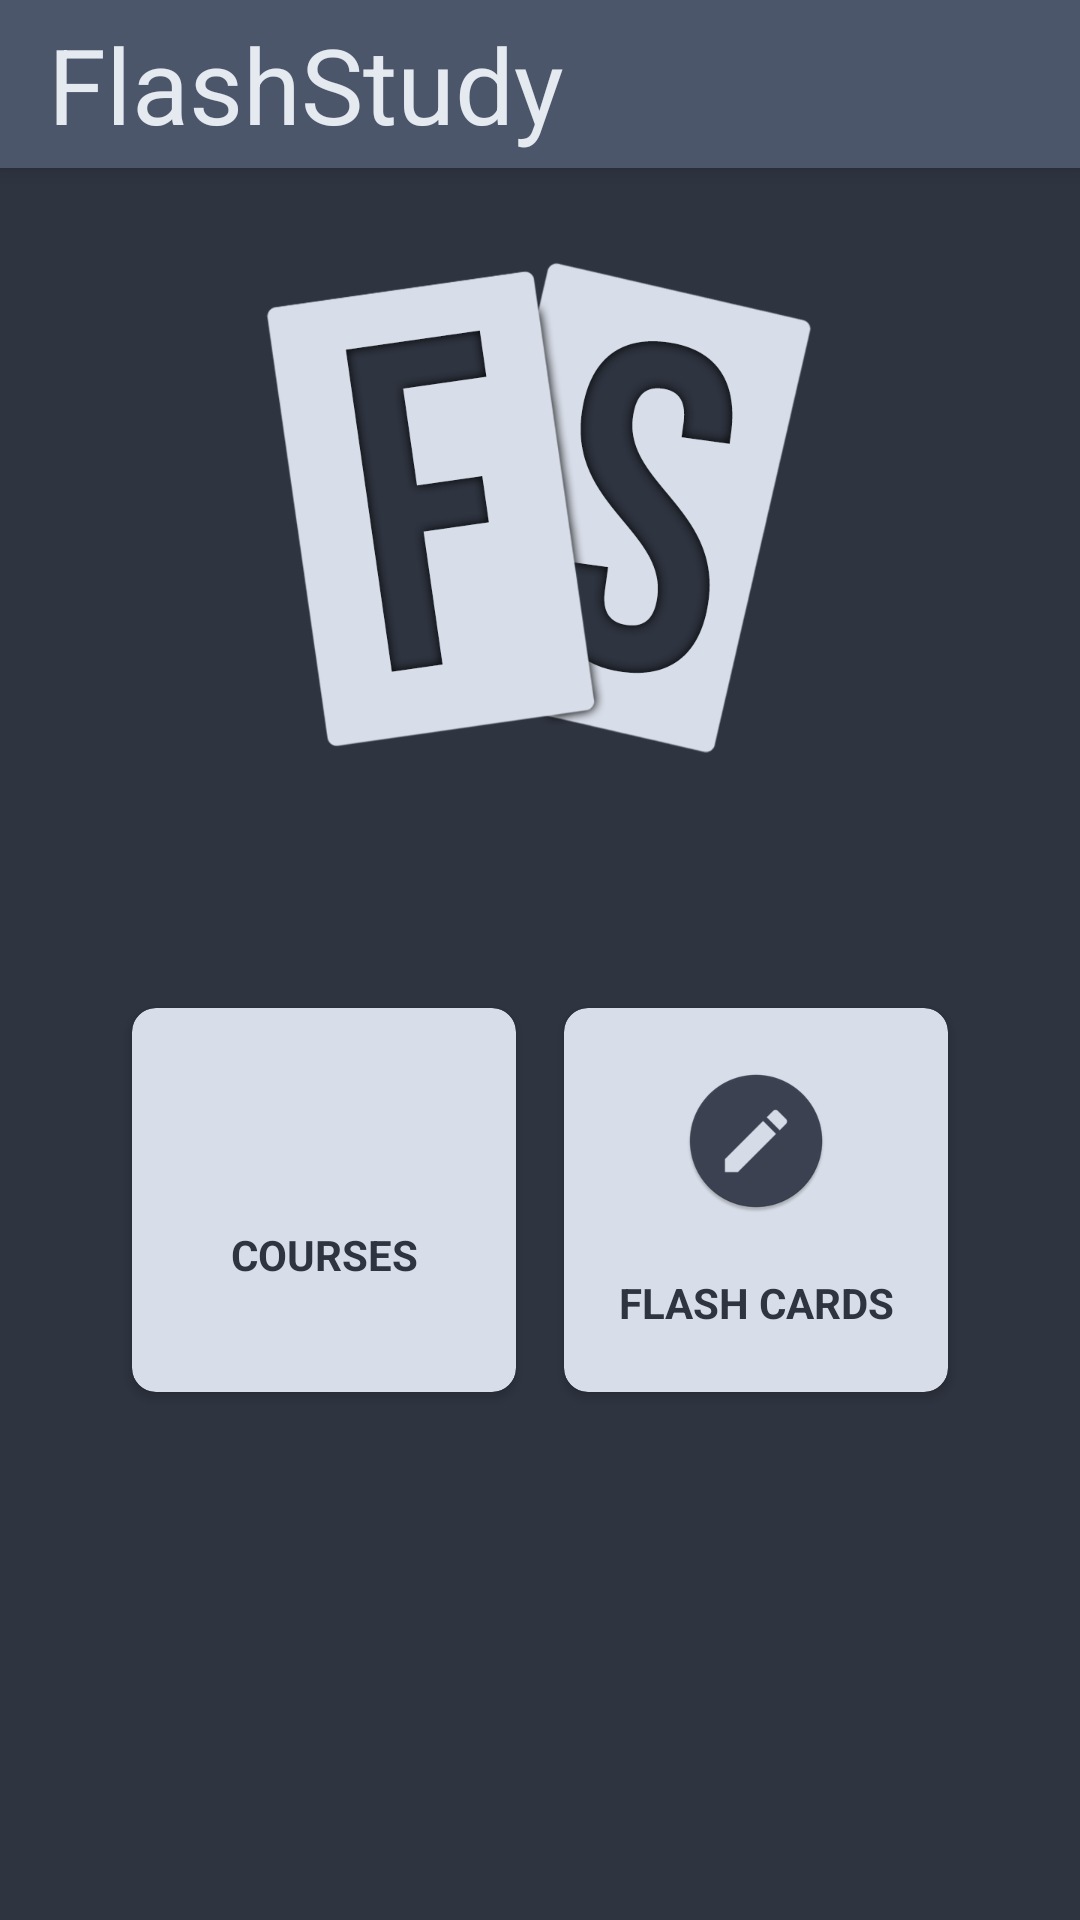

Where icons sit on this 1080px x 1920px app screen, as (x1, y1, x2, y2):
dashboard pen: (689, 1074, 823, 1210)
